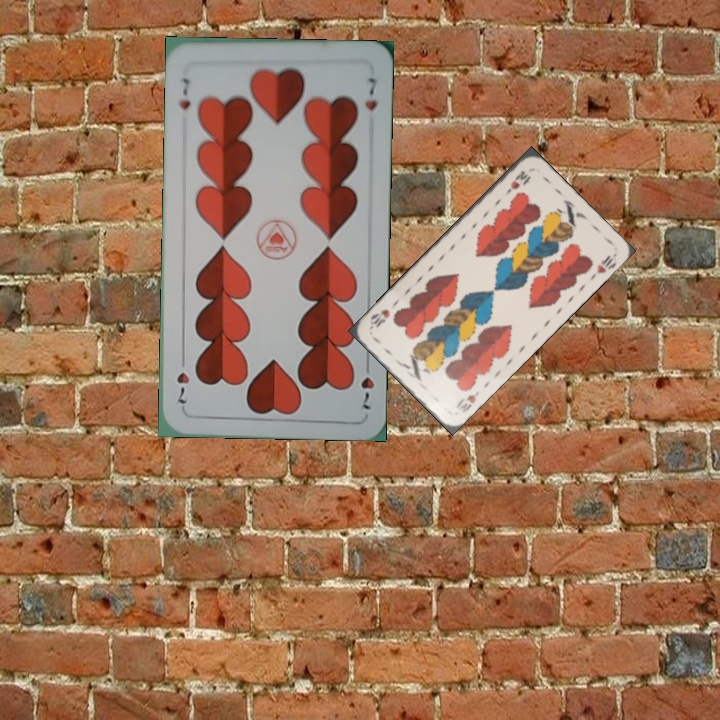H10: (502, 166, 532, 197), (452, 387, 482, 415)
H7: (357, 355, 377, 412), (175, 74, 193, 113)
